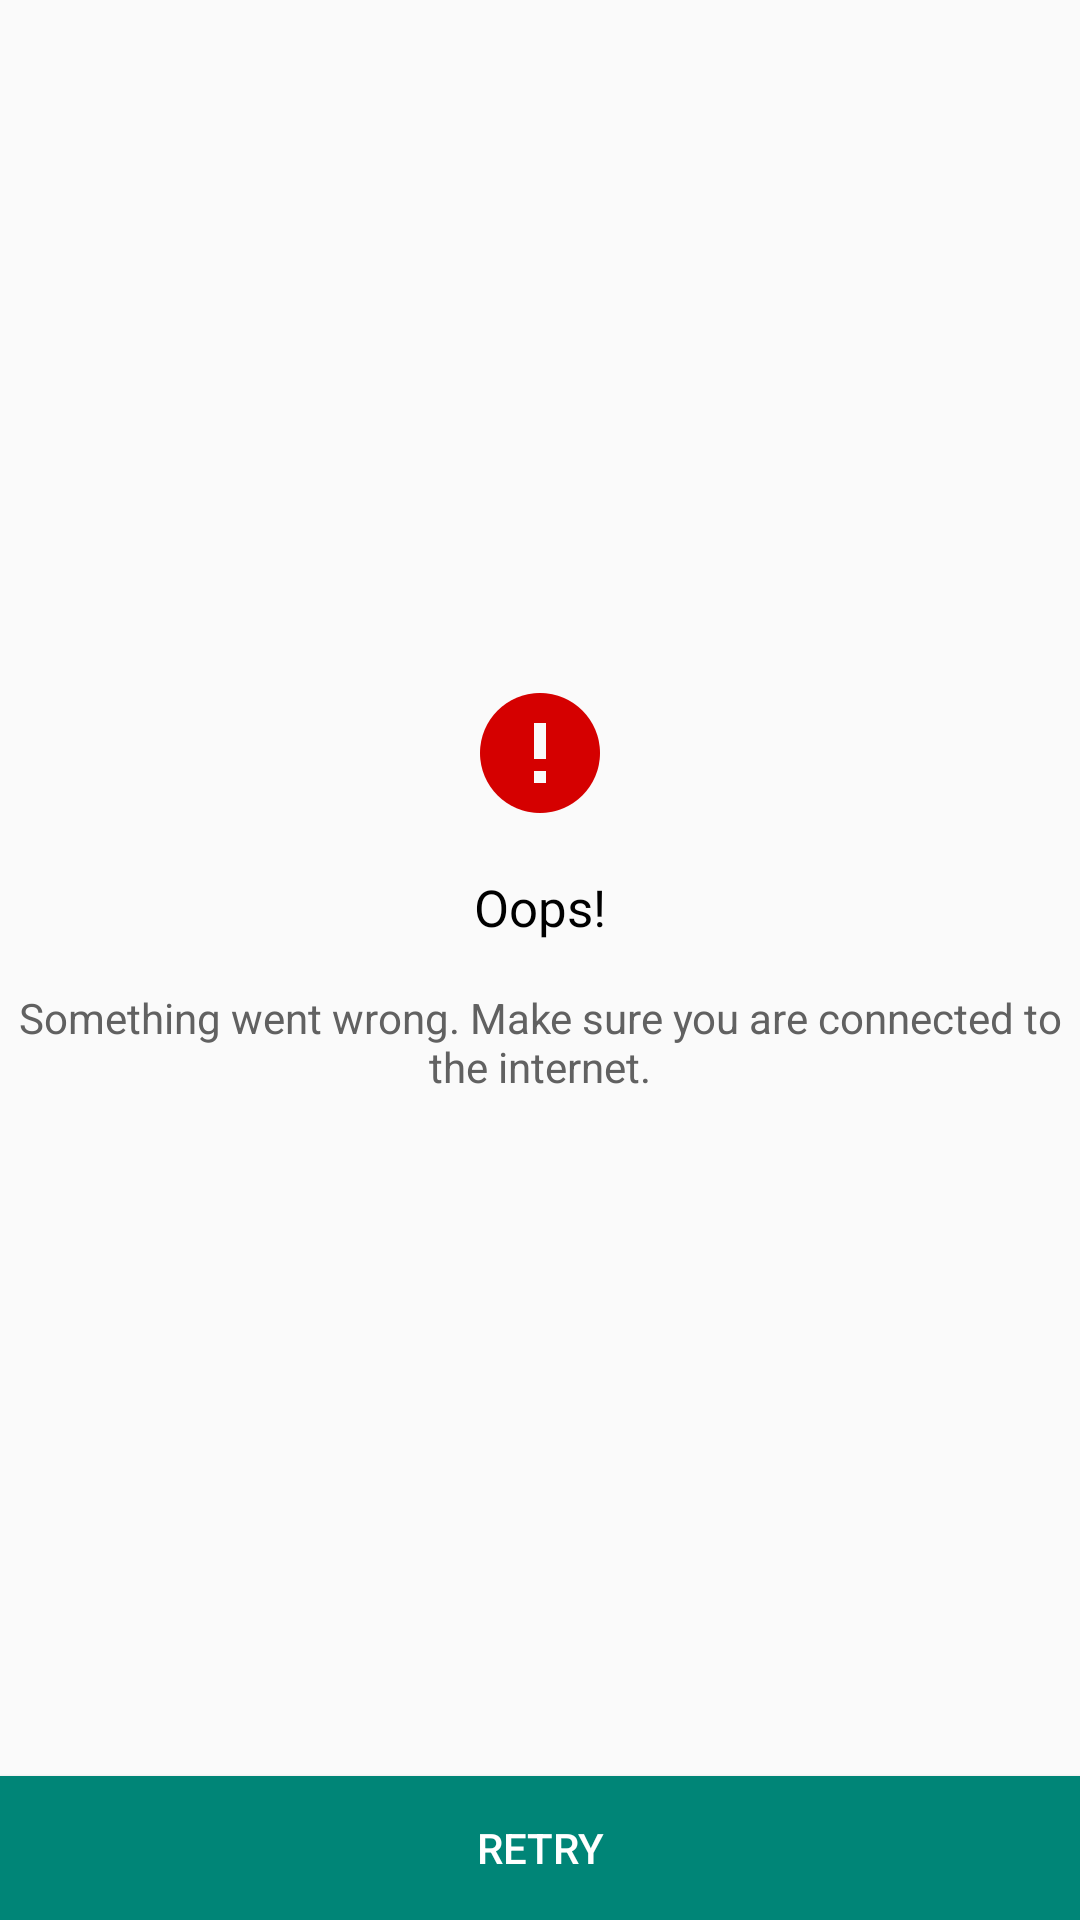

Icon bounding boxes for this 1080*1920 phone screenshot, format [x1, y1, x2, y2]:
alert circle: [480, 693, 600, 813]
